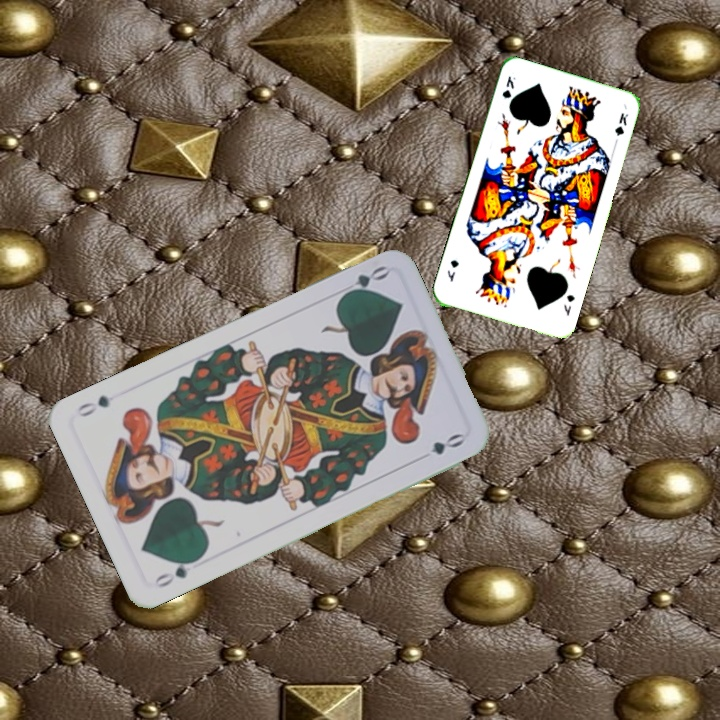GK: (498, 72, 518, 101), (560, 291, 577, 318)
GO: (337, 261, 391, 301), (149, 553, 203, 591)
